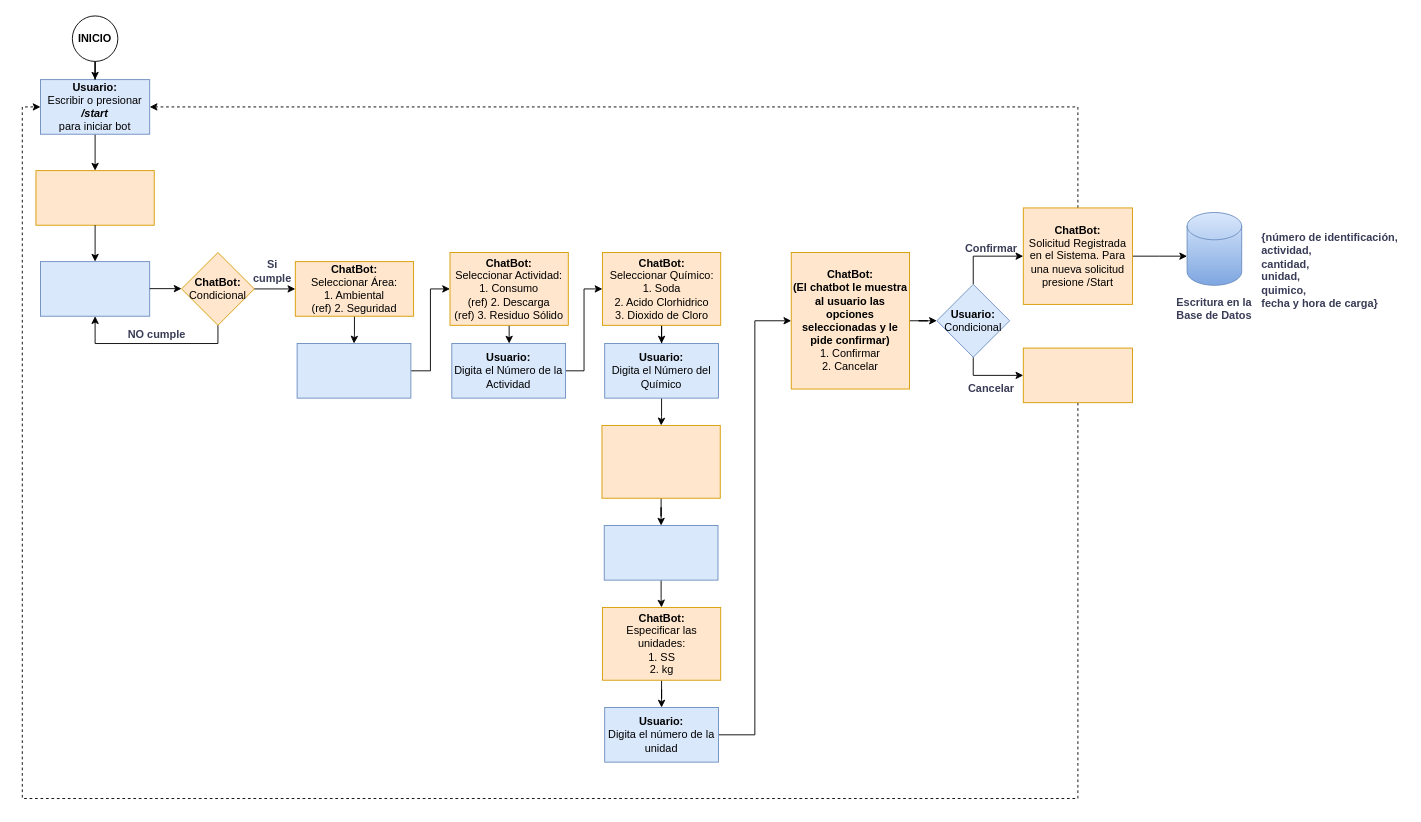
Image size: 1421x822. Some labels were removed from this diagram. Here are the shapes that lost their labels. From the top down, the centre of each, then its label:
point (94, 197): ChatBot: Bienvenida Ingresar Identificación
point (95, 288): Usuario: Usuario Digita Identificación
point (353, 370): Usuario: Digita el Número del a Area
point (1077, 375): ChatBot: Solicitud Cancelada Vuelva a /Start
point (660, 461): ChatBot: Especificar la Cantidad
point (660, 552): Usuario: Digita la cantidad
